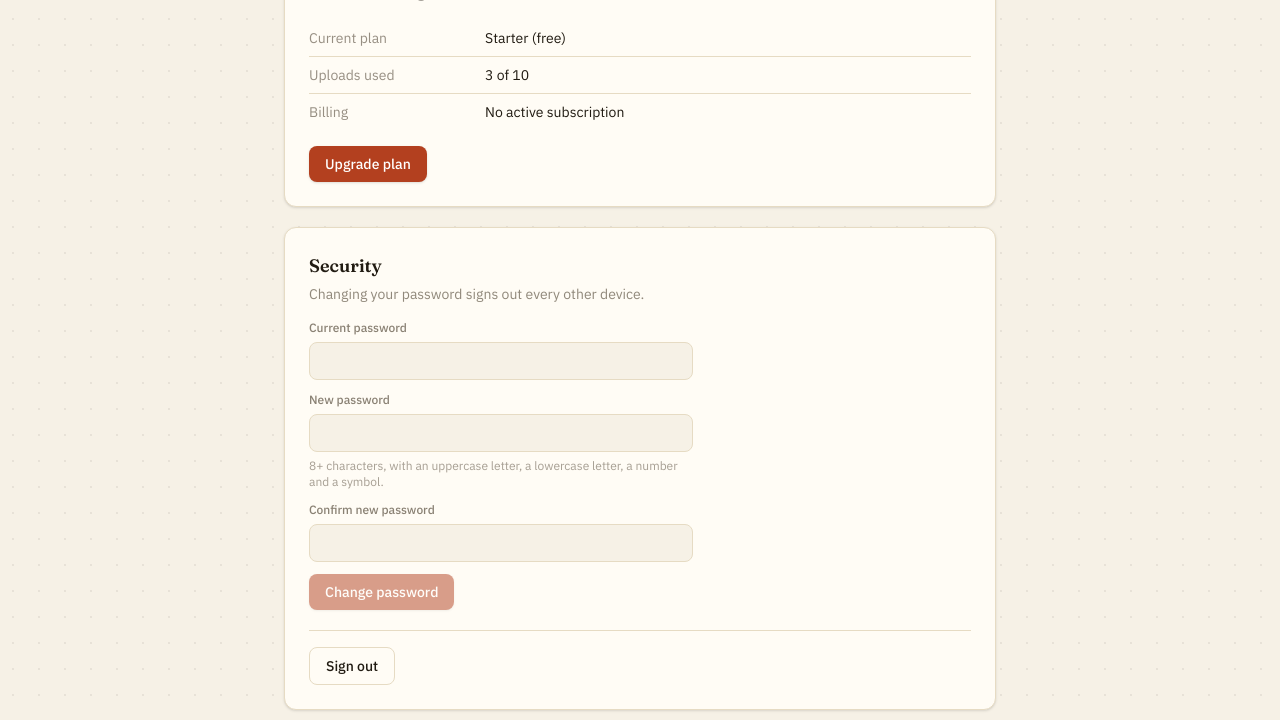
Test: AccountSettings › changes the password and keeps the new key
(page scrolled)
Step 1. Type "Old-pass1!" into the password field labelled "Current password" → (501, 361), box x1=309 y1=342 x2=693 y2=380
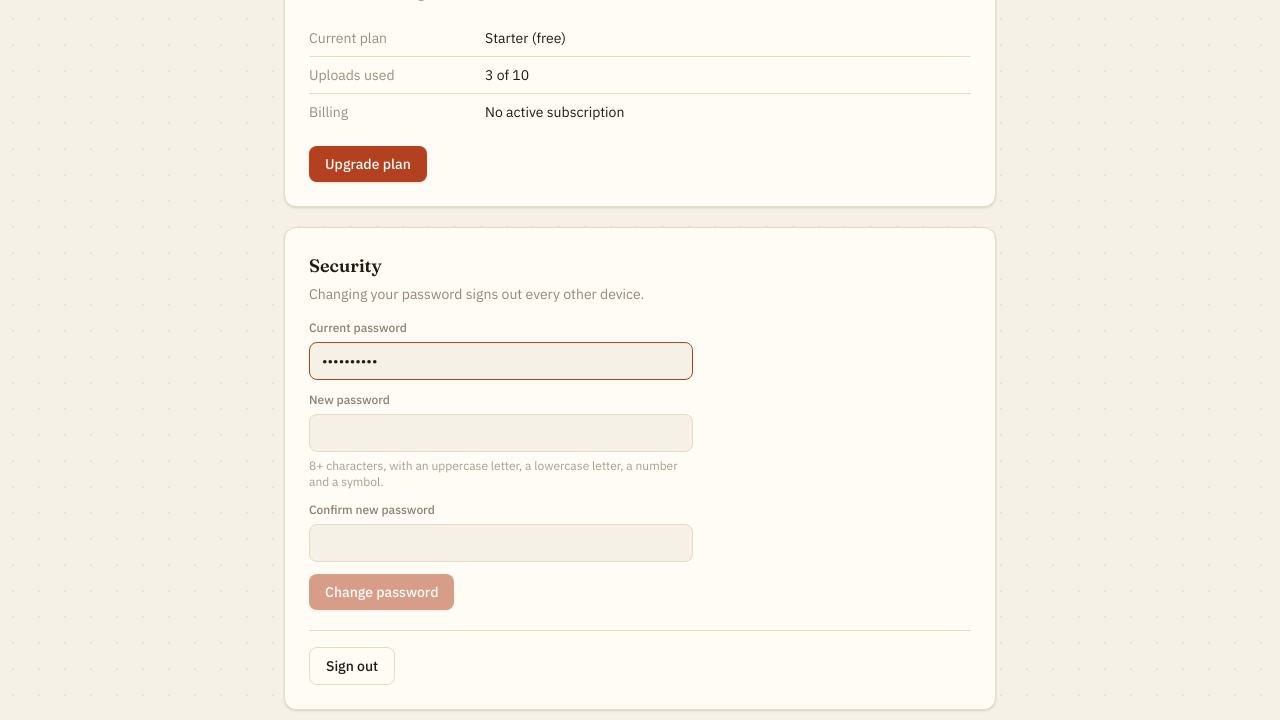
Step 2. Type "New-pass1!" into the password field labelled "New password" → (501, 433), box x1=309 y1=414 x2=693 y2=452
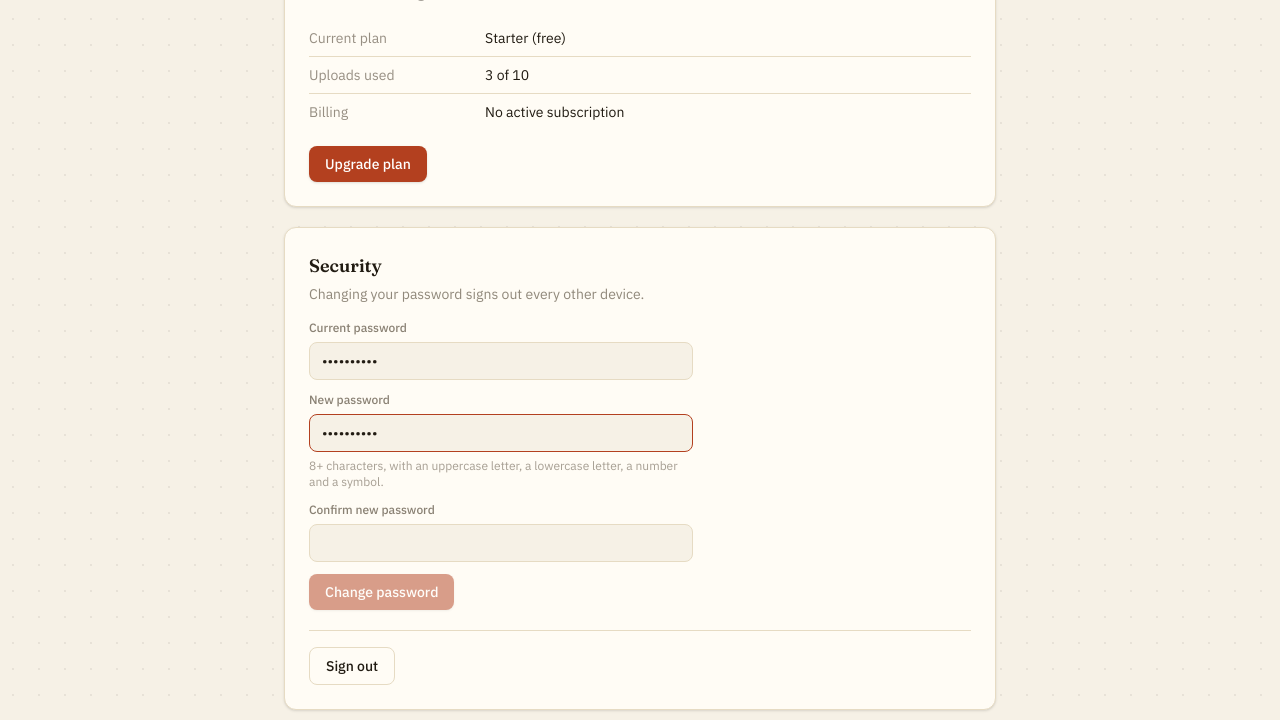
Step 3. Type "New-pass1!" into the password field labelled "Confirm new password" → (501, 543), box x1=309 y1=524 x2=693 y2=562
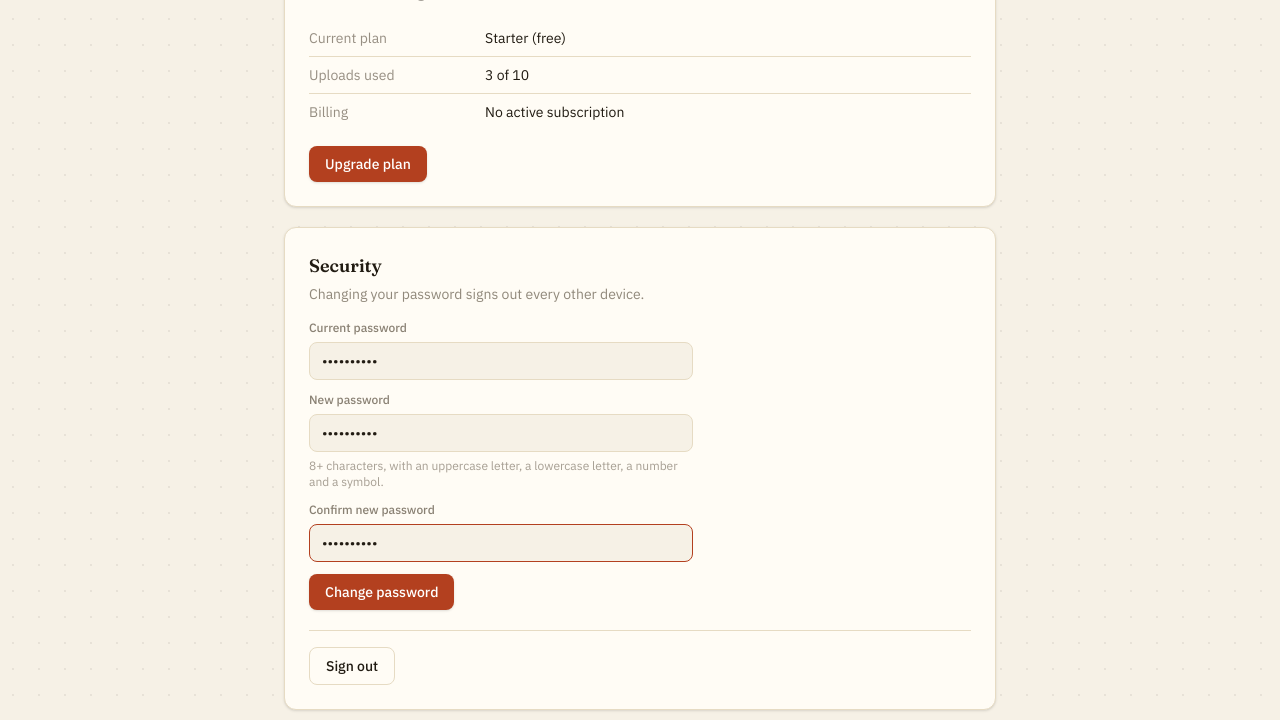
Step 4. Click the button "Change password" → (382, 592), box x1=309 y1=574 x2=454 y2=610
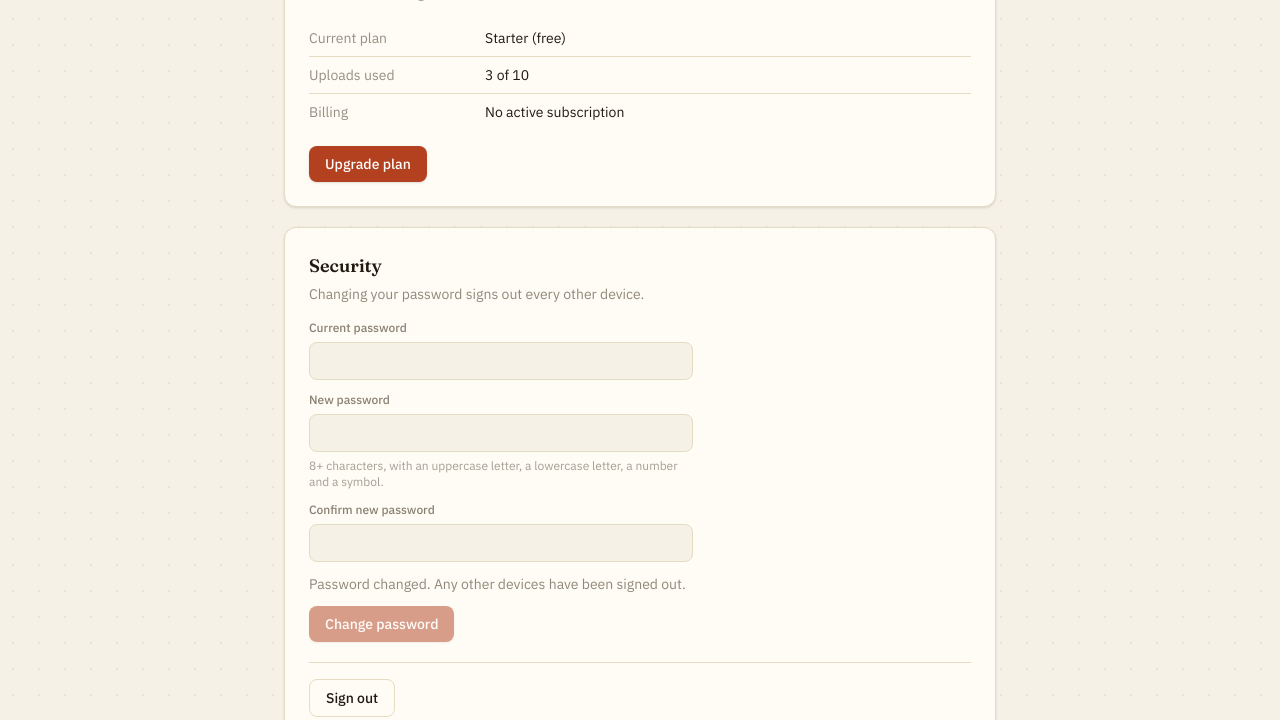
Expected: the text "Password changed. Any other devices have been signed out." is shown, x1=309 y1=574 x2=693 y2=594
